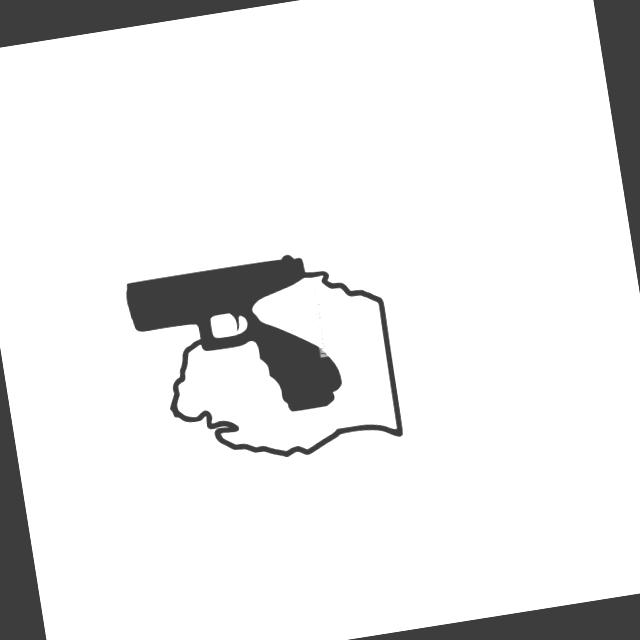handgun: (122, 245, 344, 434)
